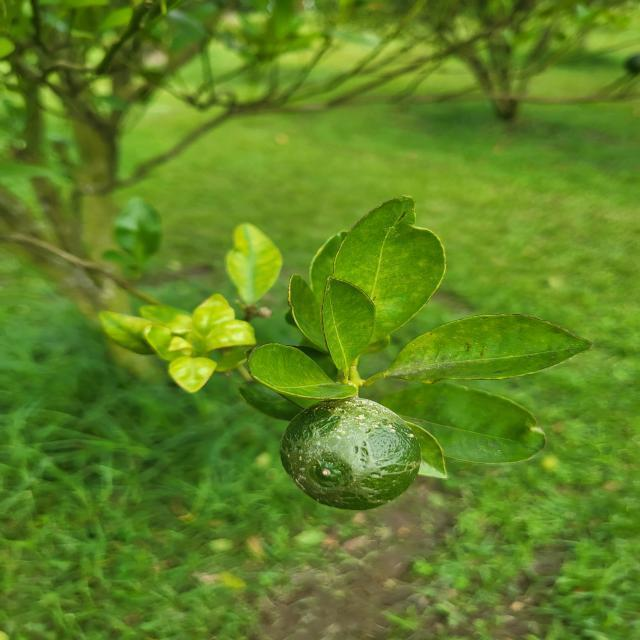thrips: (281, 392, 424, 511)
